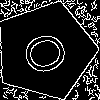O: (20, 25, 80, 78)
